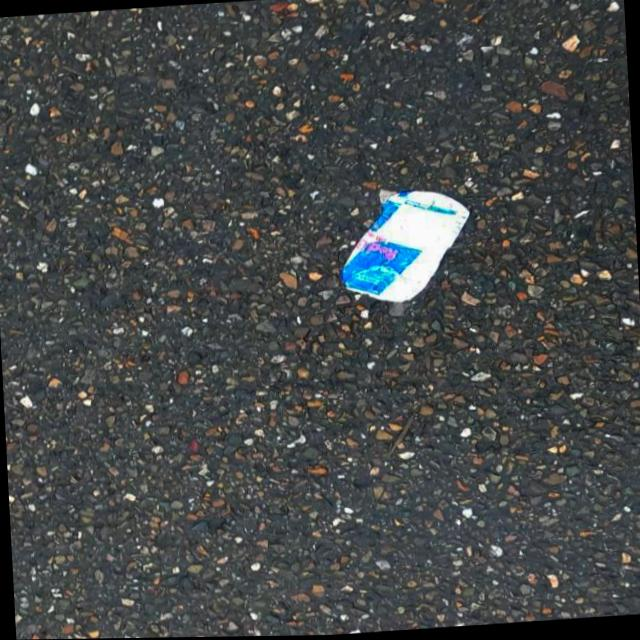Can-Metal: (336, 185, 478, 310)
